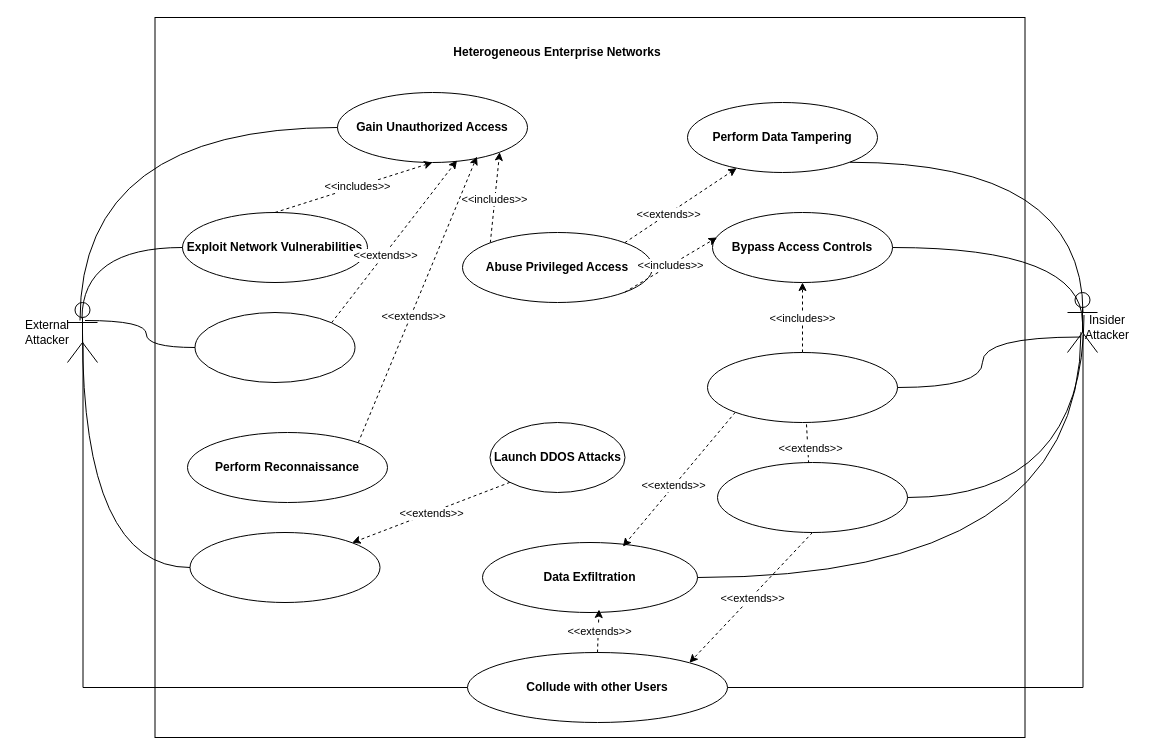
Some shapes in this 1154 by 755 pixel diagram are drawn without their labels. Here are the shapes that lost their labels. From the top down, the centre of each, then its label:
pixel 274 347: Phishing and Social Engineering
pixel 802 387: Introduce Malware
pixel 812 497: Theft of Intellectual Property
pixel 284 567: Disrupt Critical services/Infrastructure
